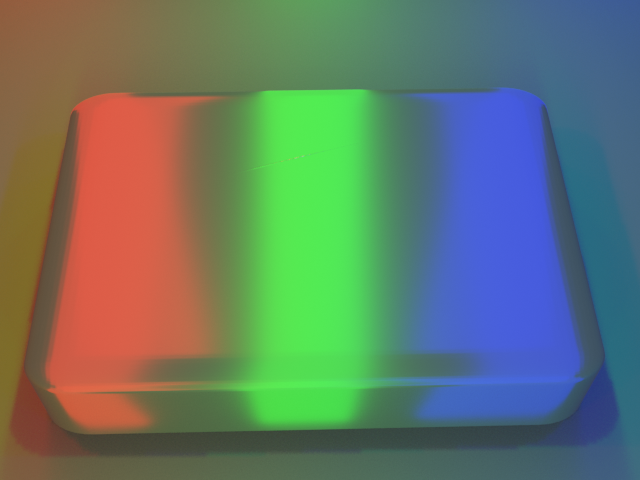scratch: (105, 78, 484, 255)
